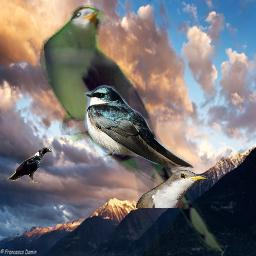Crow: (7, 147, 52, 183)
Cuckoo: (40, 5, 233, 255), (136, 170, 208, 208)
Swallow: (84, 85, 194, 171)
